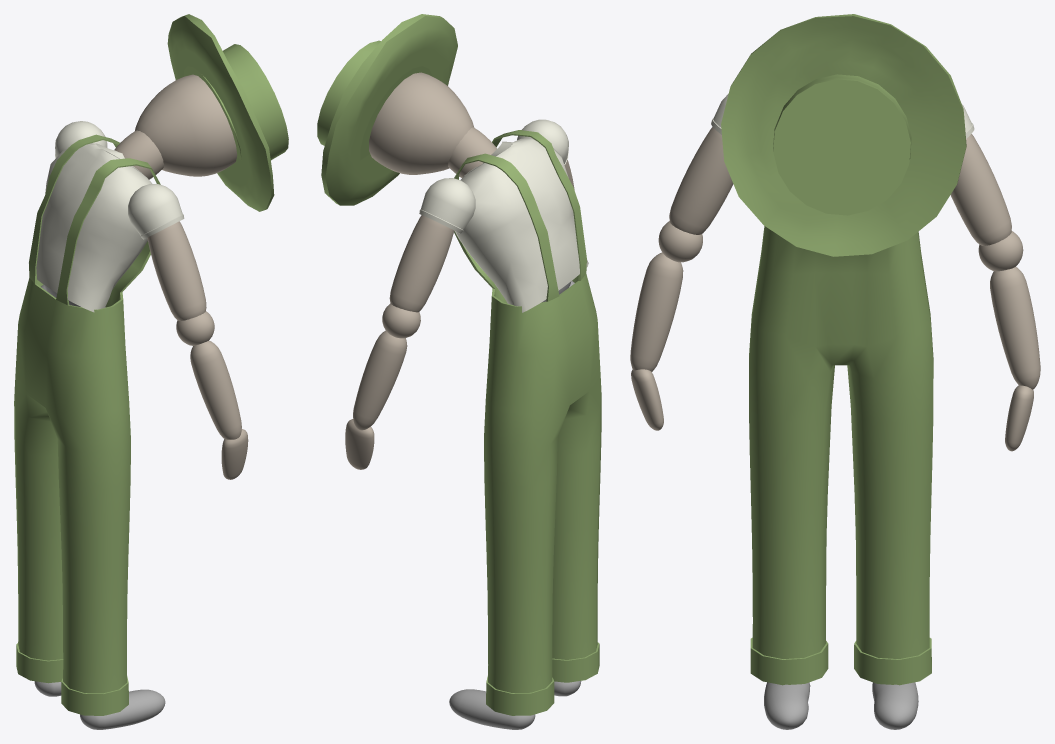
Rendered from gardner ragdoll.fbx.
The picture shows the model from 3 angles, left to right: view 1: azimuth 30°, elevation 25°; view 2: azimuth 150°, elevation 25°; view 3: azimuth 270°, elevation 25°; orthographic projection. The views are drawn at different scales.
Parts seen in each view (by area): view 1: gardner:polySurface34, polySurface9, polySurface1, gardner:polySurface38, gardner:polySurface40, gardner:polySurface37, gardner:polySurface27, polySurface6, gardner:polySurface41, gardner:polySurface39, gardner:polySurface42; view 2: gardner:polySurface34, polySurface9, polySurface1, gardner:polySurface43, gardner:polySurface45, gardner:polySurface42, gardner:polySurface32, polySurface6, gardner:polySurface46, gardner:polySurface44, gardner:polySurface37; view 3: gardner:polySurface34, polySurface9, gardner:polySurface45, gardner:polySurface40, gardner:polySurface38, gardner:polySurface43, gardner:polySurface32, gardner:polySurface27, gardner:polySurface41, gardner:polySurface46, gardner:polySurface39, gardner:polySurface44.
Part boxes in pixels (box(x1,y1,x2,y2)): gardner:polySurface34: box(14, 134, 160, 715); polySurface9: box(135, 14, 288, 211); polySurface1: box(36, 143, 152, 312); gardner:polySurface38: box(147, 221, 206, 320); gardner:polySurface40: box(190, 340, 241, 439); gardner:polySurface37: box(128, 184, 184, 239); gardner:polySurface27: box(80, 689, 165, 729); polySurface6: box(114, 130, 163, 179); gardner:polySurface41: box(221, 429, 248, 479); gardner:polySurface39: box(176, 311, 214, 345); gardner:polySurface42: box(55, 121, 107, 157); gardner:polySurface34: box(454, 130, 601, 715); polySurface9: box(317, 14, 474, 205); polySurface1: box(455, 138, 588, 312); gardner:polySurface43: box(389, 215, 454, 312); gardner:polySurface45: box(353, 330, 407, 430); gardner:polySurface42: box(419, 178, 475, 233); gardner:polySurface32: box(449, 689, 535, 729); polySurface6: box(448, 127, 496, 177); gardner:polySurface46: box(345, 419, 374, 469); gardner:polySurface44: box(382, 303, 420, 338); gardner:polySurface37: box(517, 119, 568, 165); gardner:polySurface34: box(749, 226, 933, 685); polySurface9: box(721, 14, 966, 256); gardner:polySurface45: box(990, 267, 1040, 389); gardner:polySurface40: box(630, 252, 683, 371); gardner:polySurface38: box(669, 127, 733, 234); gardner:polySurface43: box(950, 134, 1011, 245); gardner:polySurface32: box(872, 682, 918, 729); gardner:polySurface27: box(764, 682, 810, 729); gardner:polySurface41: box(631, 369, 663, 430); gardner:polySurface46: box(1005, 385, 1033, 451); gardner:polySurface39: box(658, 221, 702, 262); gardner:polySurface44: box(978, 231, 1023, 271).
Bounding box in the file's own units: 7.56 × 19.91 × 9.72.
